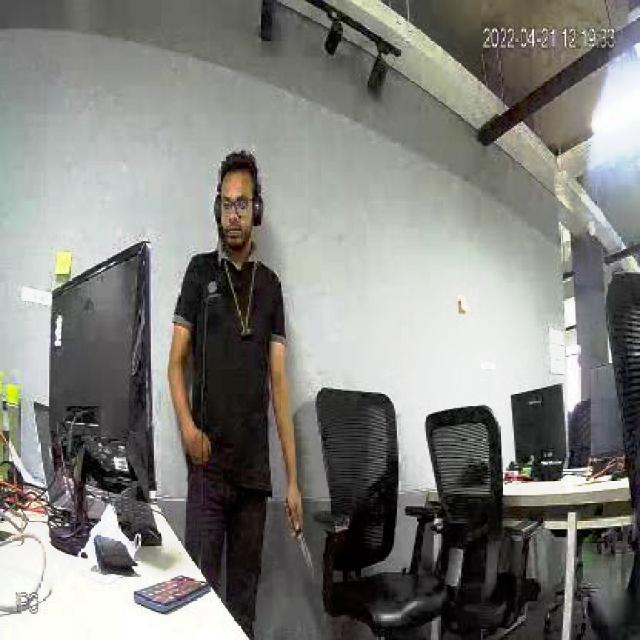Knife: (280, 502, 321, 576)
